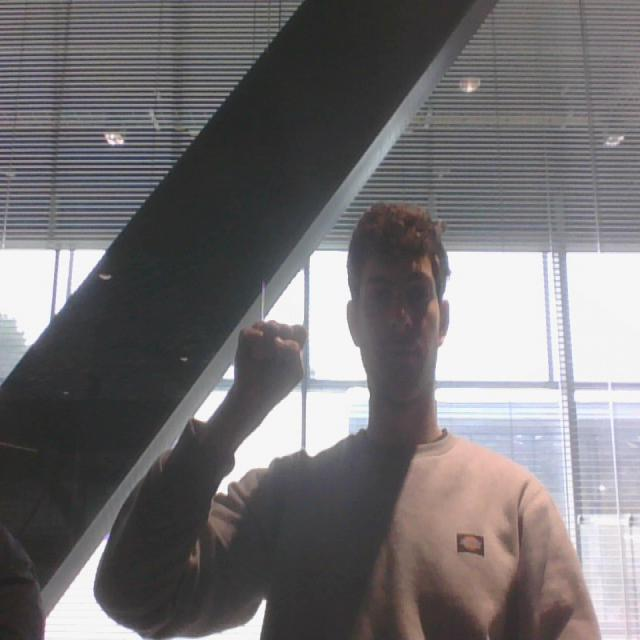stop: (230, 314, 310, 418)
